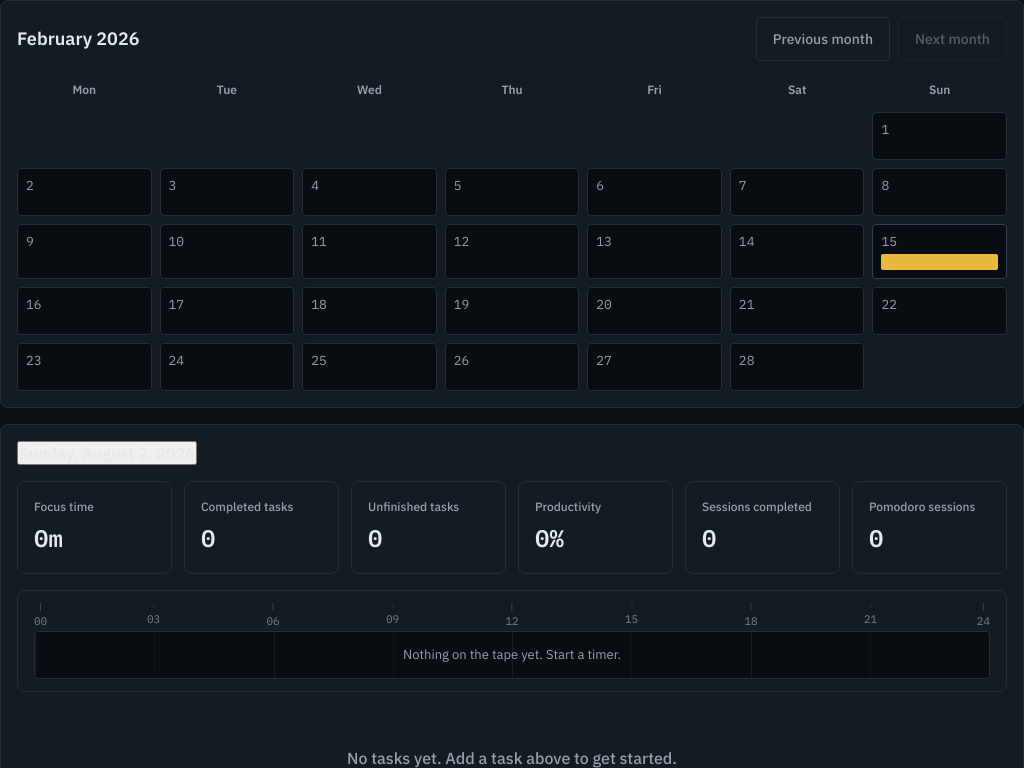
Progress Feature & Components › previous/next month controls disable at the data edges
Expected: the button "Next month" is disabled, x1=898 y1=17 x2=1007 y2=61
Click the button "Previous month" at coordinates (823, 39), box x1=756 y1=17 x2=890 y2=61
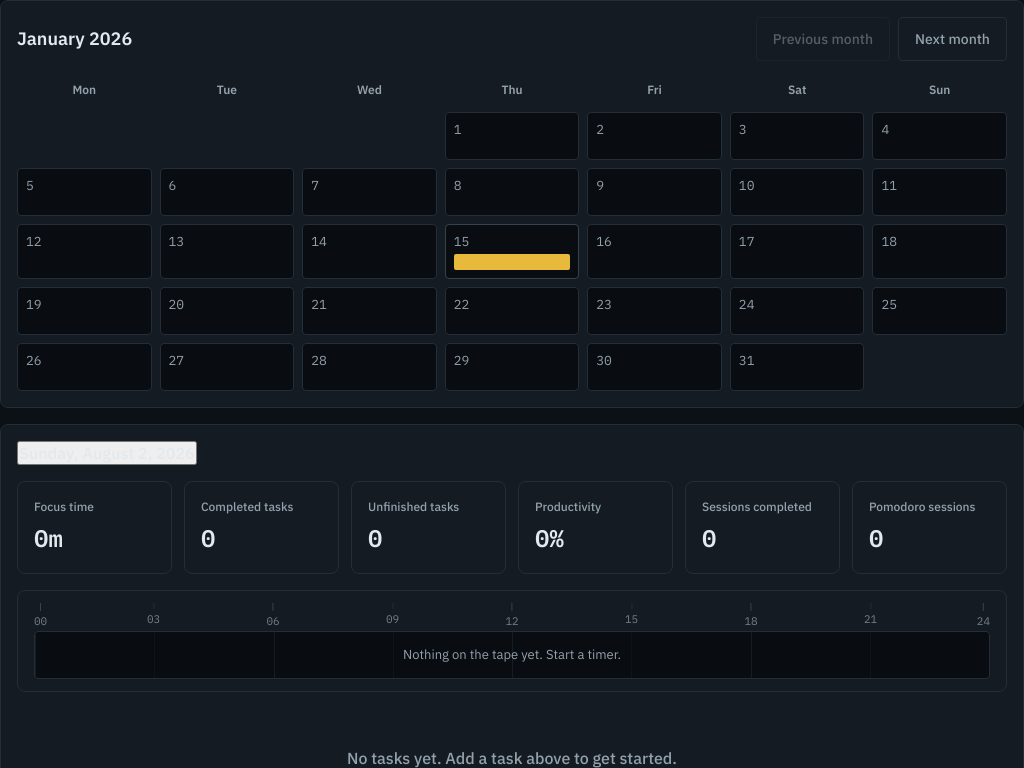
Expected: the button "Previous month" is disabled, x1=756 y1=17 x2=890 y2=61
